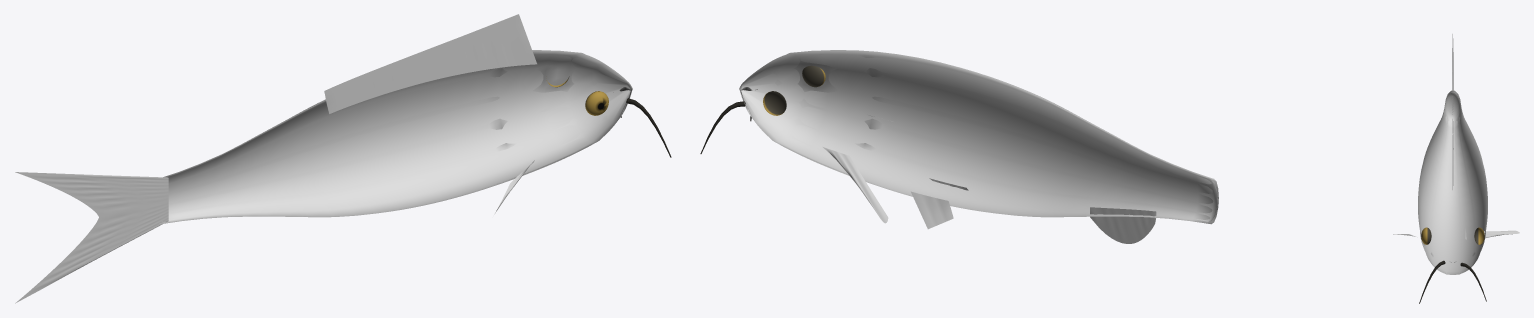
The model's file is smallmouth-yellowfish.glb.
3 renders of one model, left to right at view 1: azimuth 30°, elevation 25°; view 2: azimuth 150°, elevation 25°; view 3: azimuth 270°, elevation 25°, orthographic. The views are drawn at different scales.
Visible parts, largest first — view 1: BodyLow, Fins, Body, Eyes; view 2: BodyLow, Body, Fins, Eyes; view 3: BodyLow, Body, Fins, Eyes, Extras.
Part boxes in pixels (x1,y1,x2,y2): BodyLow: [159, 50, 631, 224]; Fins: [15, 14, 536, 303]; Body: [161, 53, 632, 222]; Eyes: [546, 76, 608, 115]; BodyLow: [740, 50, 1218, 224]; Body: [739, 53, 1217, 222]; Fins: [823, 115, 1156, 243]; Eyes: [763, 65, 825, 115]; BodyLow: [1418, 90, 1487, 274]; Body: [1418, 92, 1487, 274]; Fins: [1393, 34, 1519, 239]; Eyes: [1421, 227, 1484, 244]; Extras: [1419, 260, 1486, 303].
Size of the model in its own units: 0.6888 by 0.1877 by 0.1873.
